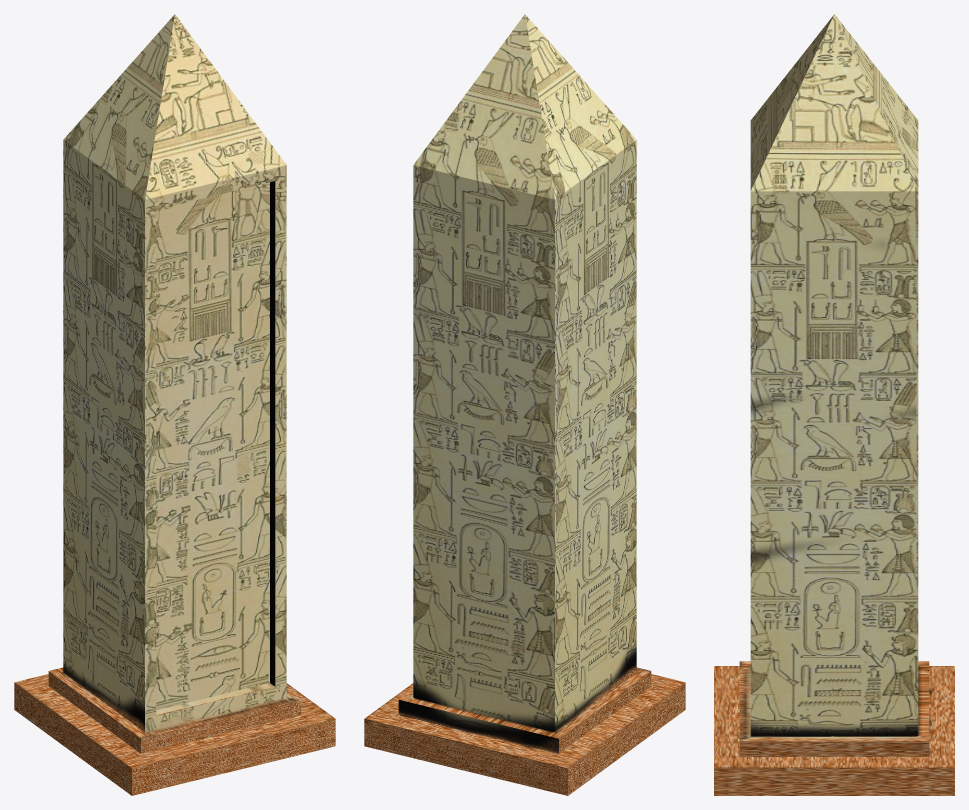
Rendered from obelisk by MK.fbx.
3 views of the same model, side by side, from view 1: azimuth 30°, elevation 25°; view 2: azimuth 150°, elevation 25°; view 3: azimuth 270°, elevation 25° (orthographic). The views are drawn at different scales.
Parts seen in each view (by area): view 1: Cube; view 2: Cube; view 3: Cube.
Part boxes in pixels (left/top/right/bottom): Cube: left=14, top=14, right=335, bottom=795; Cube: left=364, top=14, right=685, bottom=795; Cube: left=714, top=14, right=954, bottom=795.
Size of the model in its own units: 200 by 670 by 200.
